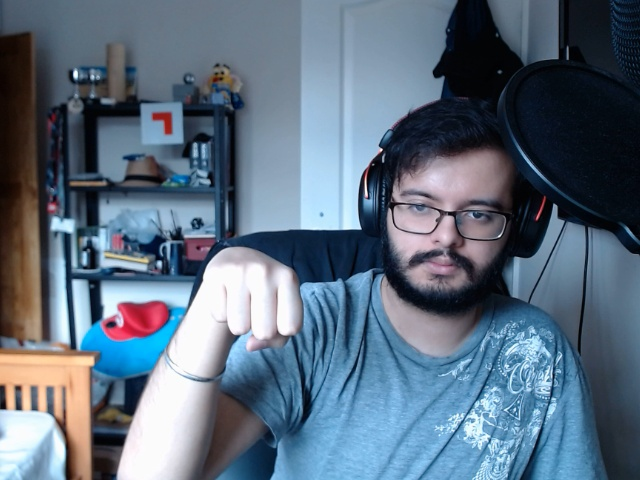Yes: (188, 230, 326, 352)
